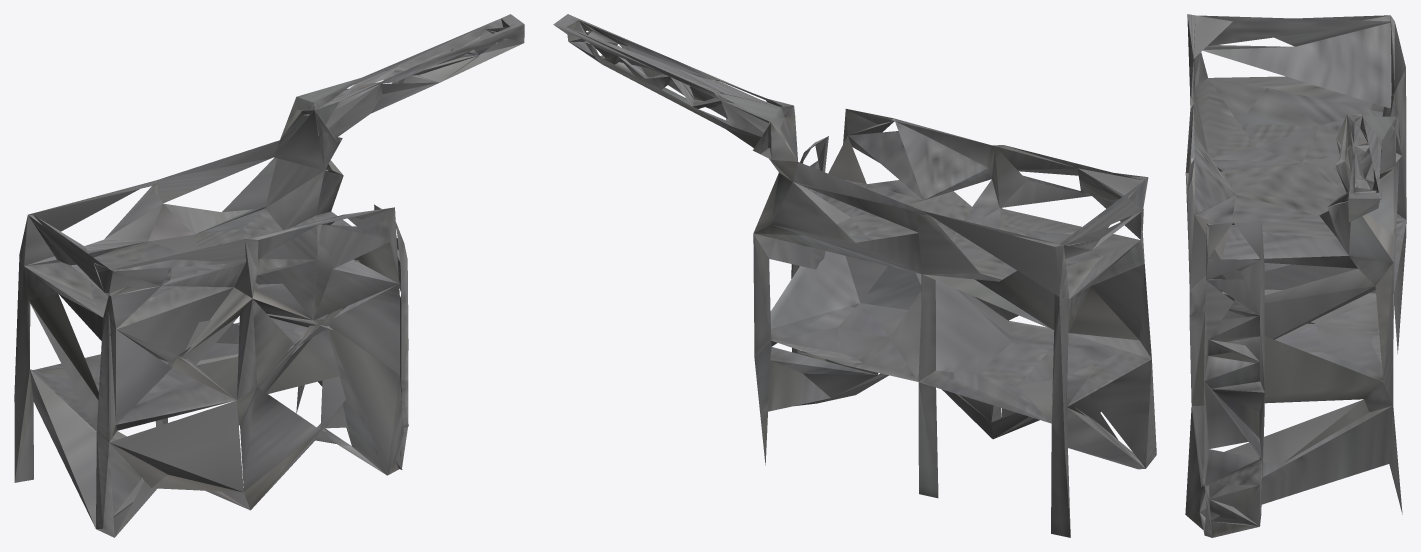
Rendered from shared_construction_scaffold_kit_lod2.glb.
3 views of the same model, side by side, from view 1: azimuth 30°, elevation 25°; view 2: azimuth 150°, elevation 25°; view 3: azimuth 270°, elevation 25° (orthographic). The views are drawn at different scales.
Visible parts, largest first — view 1: mesh_node; view 2: mesh_node; view 3: mesh_node.
Part boxes in pixels (bbox=[...]): mesh_node: bbox=[14, 14, 524, 537]; mesh_node: bbox=[553, 14, 1156, 537]; mesh_node: bbox=[1185, 14, 1406, 537].
Bounding box in the file's own units: 9.37 × 6.59 × 2.96.
Materials: 1 (1 with a texture image).
